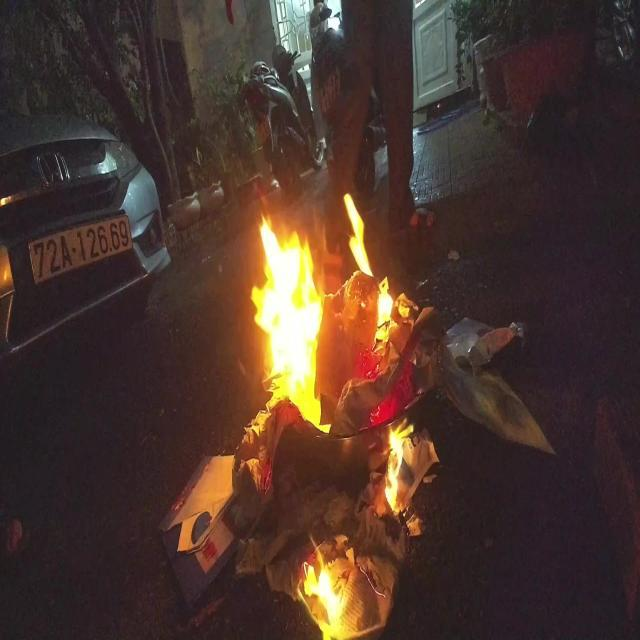Fire: (251, 184, 393, 437), (300, 532, 346, 634), (383, 418, 415, 518)
